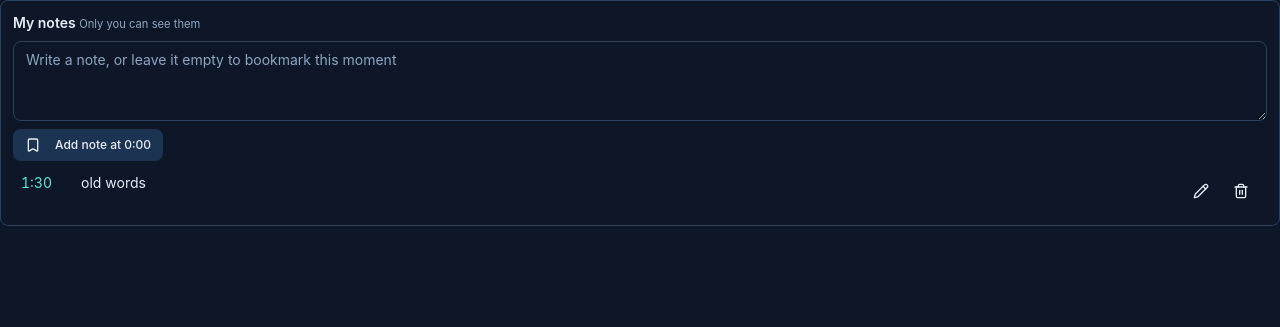
it: VideoNotes › edits and deletes a note
Click the button named "Edit the note at 1:30" at (1201, 191), box [1183, 173, 1219, 209]
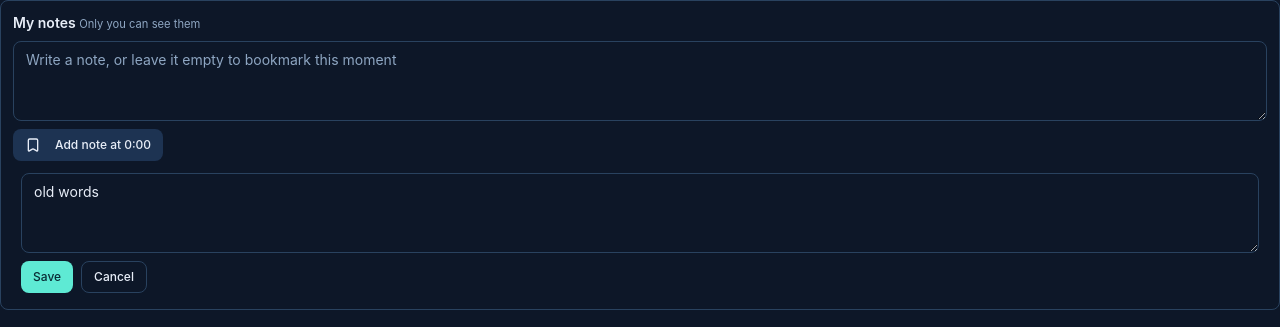
Replace the text in the text box named "Edit note" with "new words" at (640, 213), box [21, 173, 1259, 253]
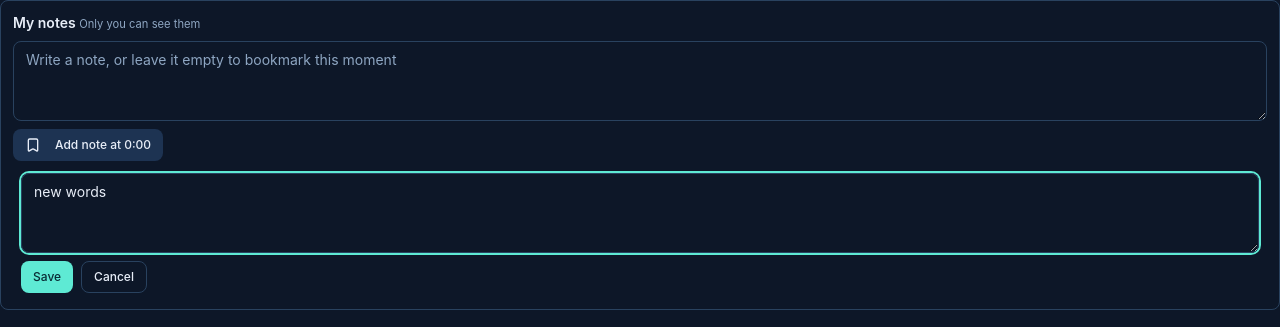
Click the button "Save" at (47, 277), box [21, 261, 73, 293]
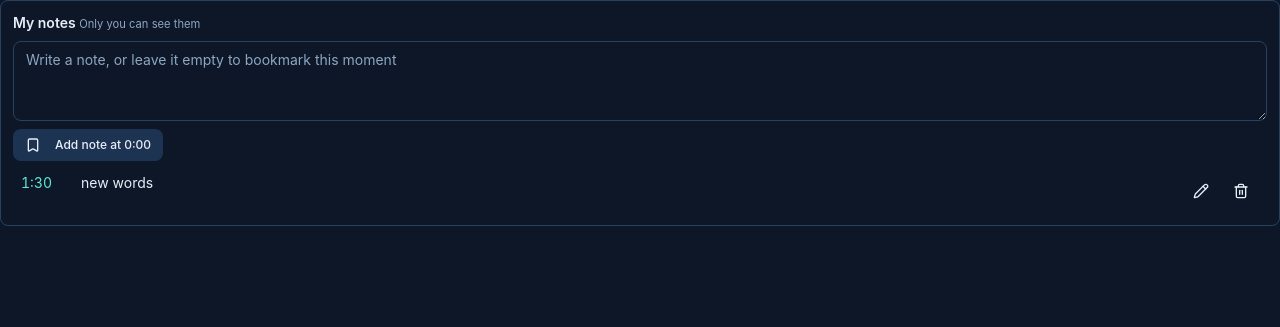
Expected: the text "new words" is shown, [81, 173, 153, 193]
Click the button named "Delete the note at 1:30" at (1241, 191), box [1223, 173, 1259, 209]
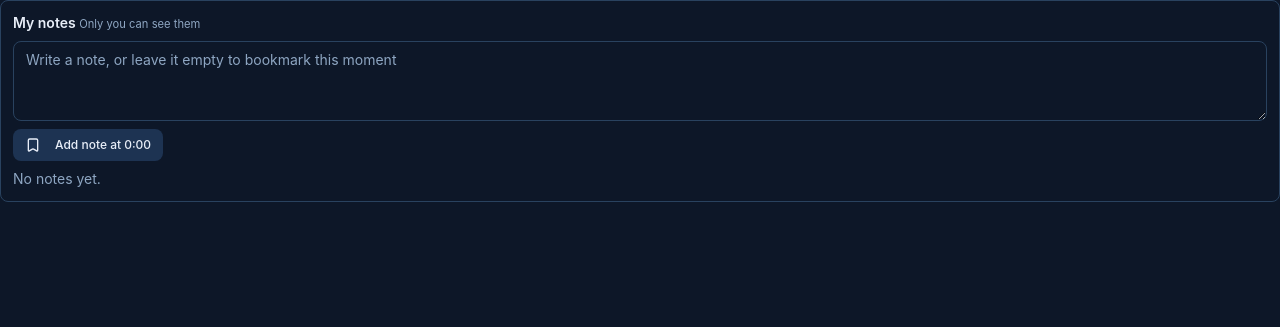
Expected: the text "No notes yet." is shown, [13, 170, 101, 187]
